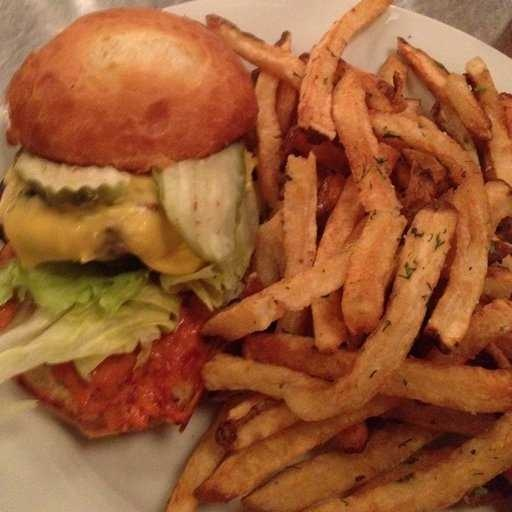hamburger: (1, 10, 293, 392)
